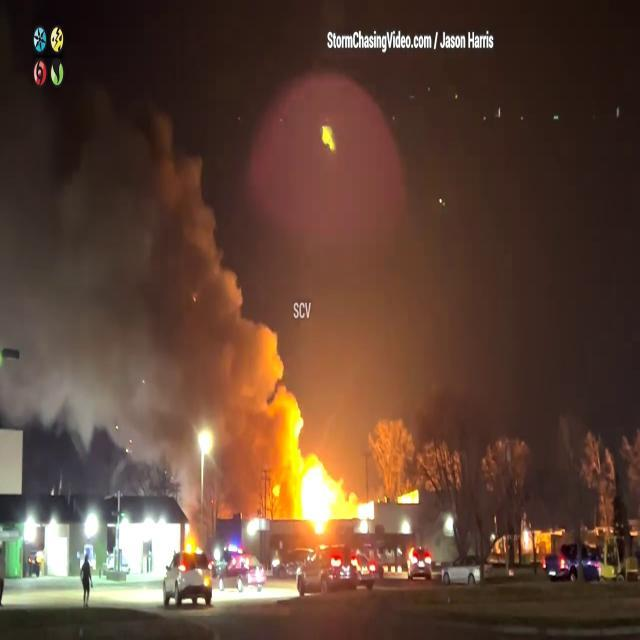Fire: (273, 416, 359, 534)
Smoke: (0, 36, 266, 435)
